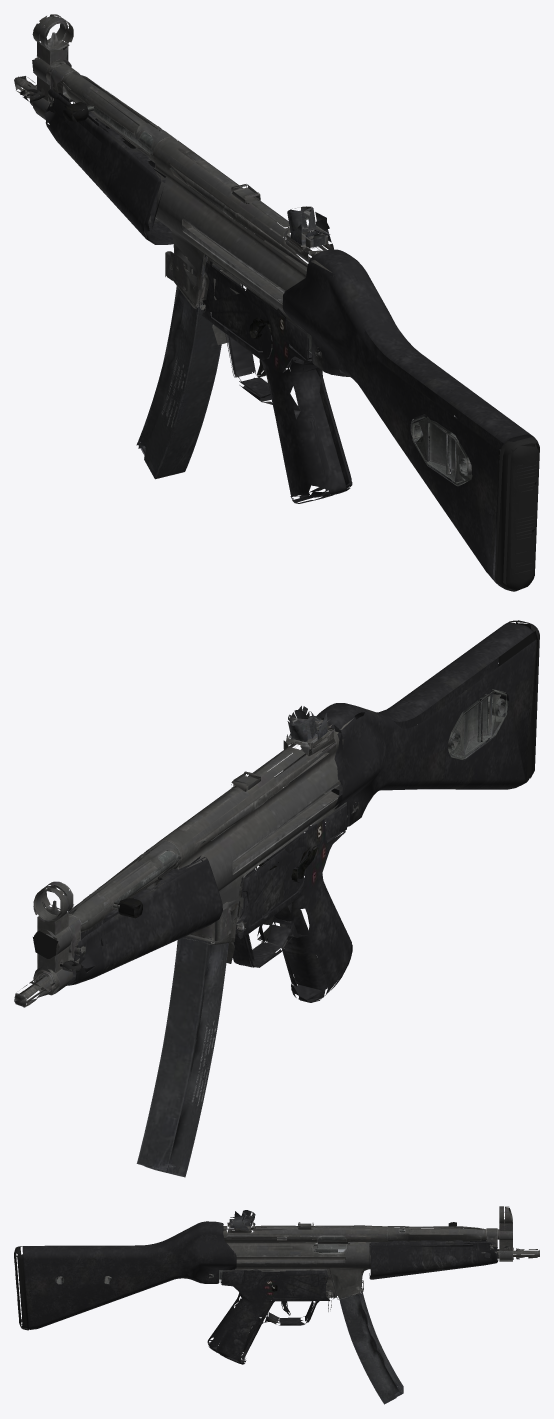
3 renders of one model, top to bottom at view 1: azimuth 30°, elevation 25°; view 2: azimuth 150°, elevation 25°; view 3: azimuth 270°, elevation 25°, orthographic. The views are drawn at different scales.
Parts seen in each view (by area): view 1: merged; view 2: merged; view 3: merged.
Part boxes in pixels (x1,y1,x2,y2): merged: (14,14,539,591); merged: (14,620,539,1177); merged: (14,1206,539,1404).
Size of the model in its own units: 0.0811 by 0.3658 by 0.901.
5 materials, 5 textured.
